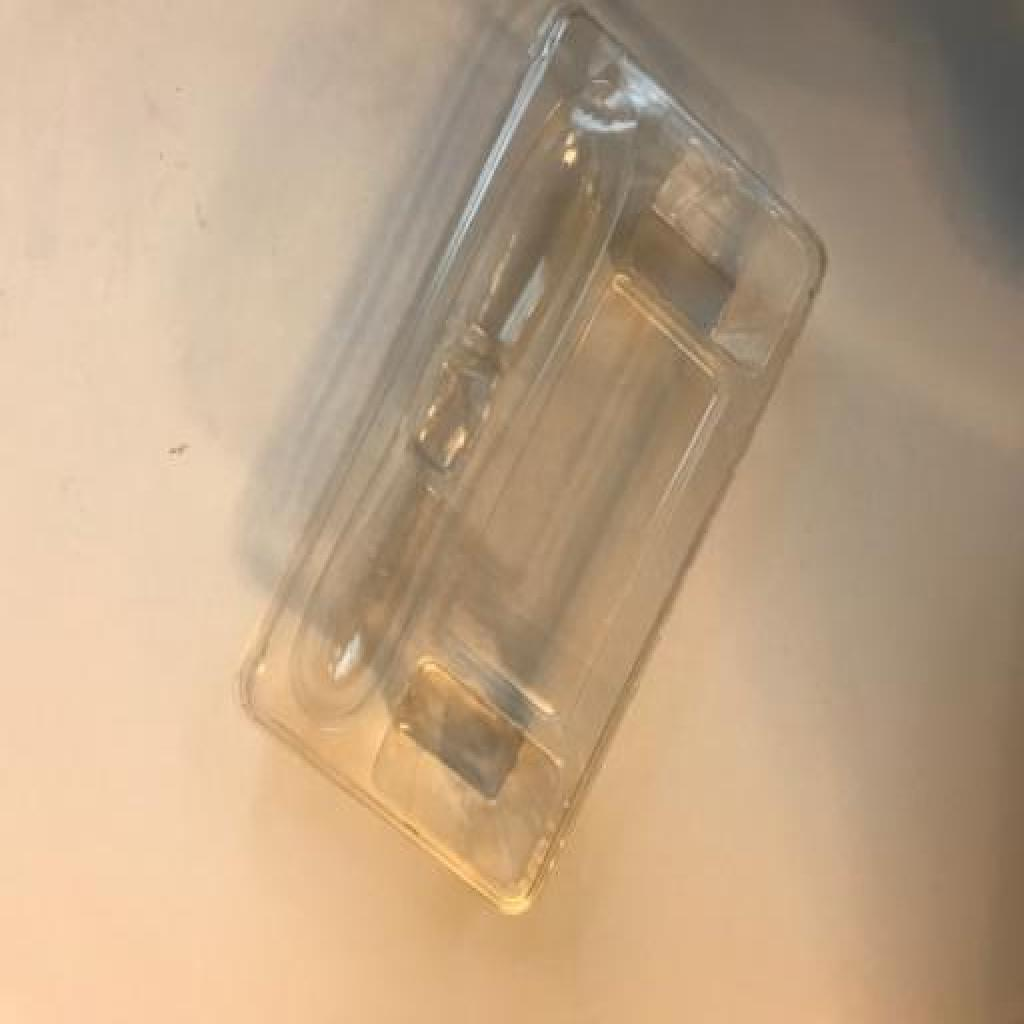plastic: (222, 10, 853, 933)
